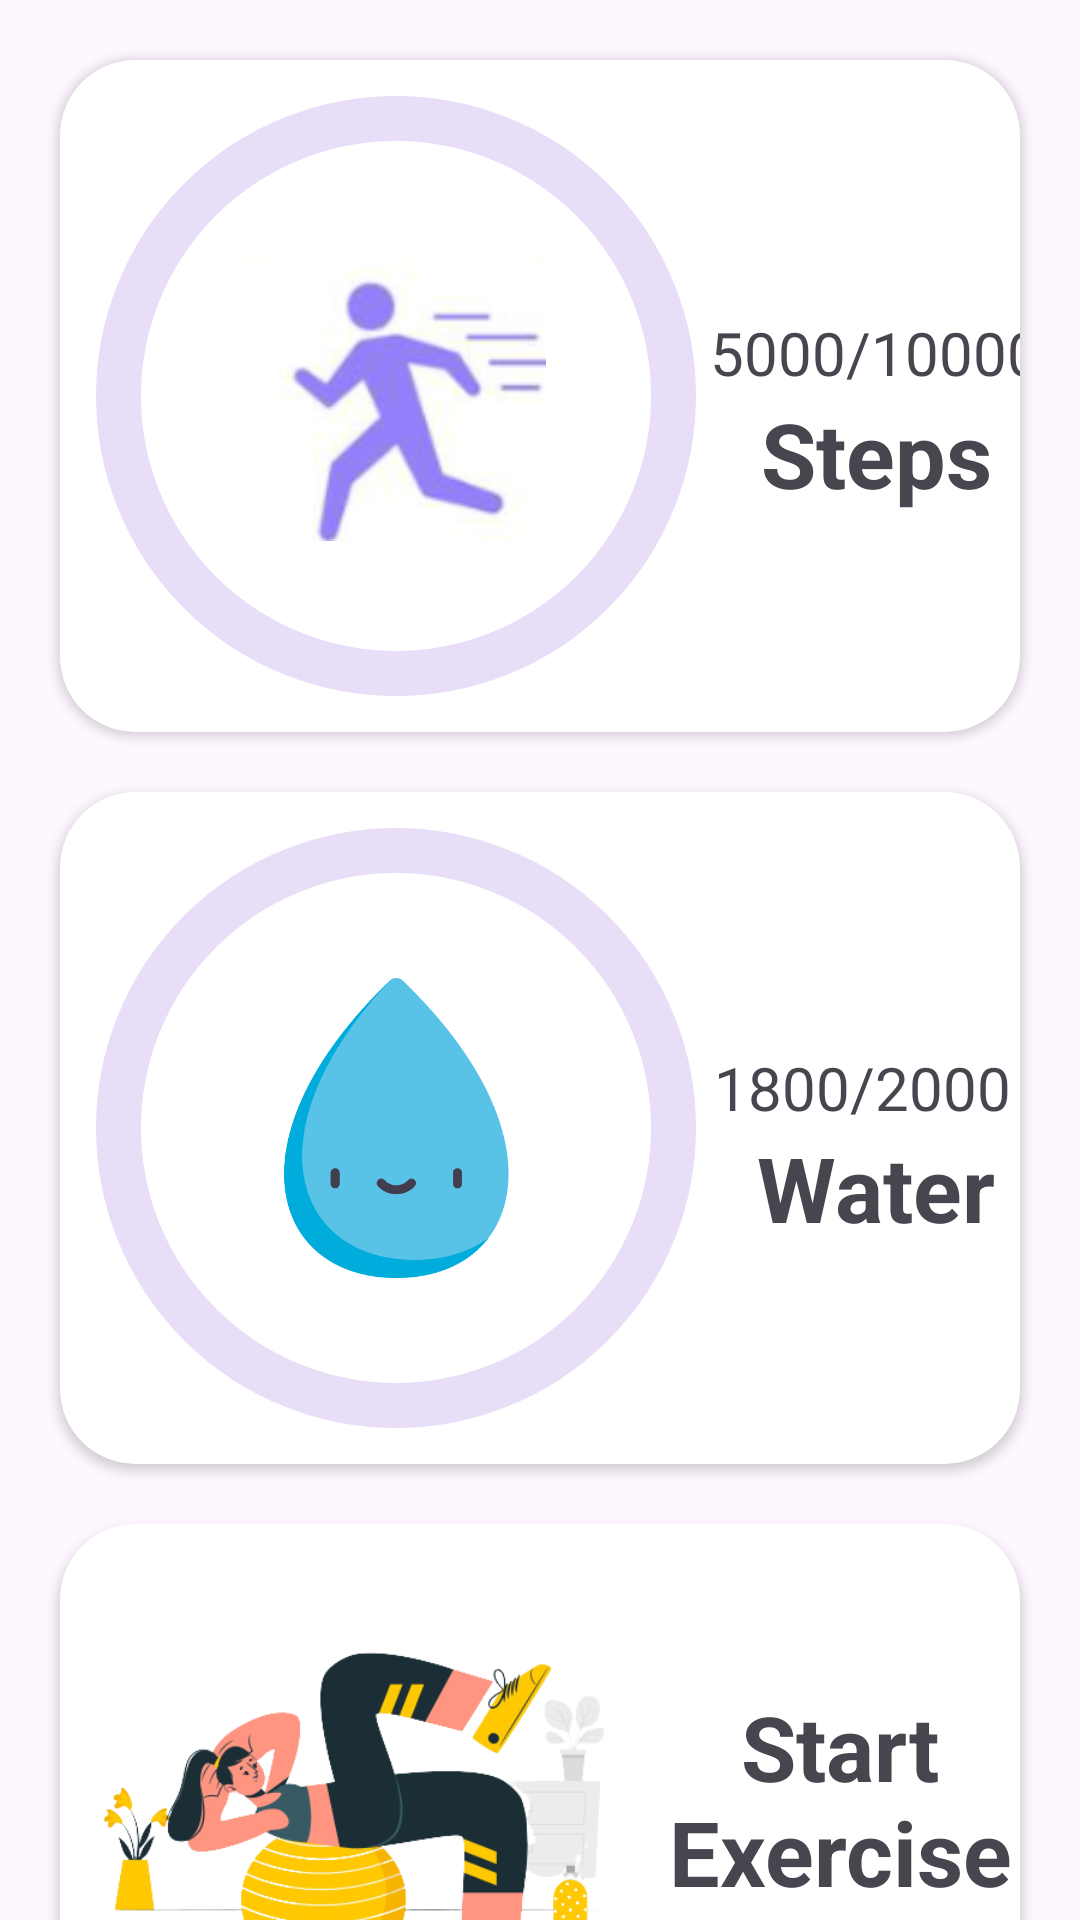

Locate icon controls on the screen. Image size 1080px x 1920px, boxes as (x1, y1, x2, y2).
running: (287, 282, 546, 541)
water droplet: (284, 978, 509, 1278)
